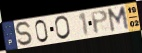0: (34, 18, 50, 43)
1: (78, 11, 89, 37)
M: (106, 5, 131, 34)
O: (54, 15, 72, 41)
P: (90, 9, 110, 35)
S: (14, 21, 35, 47)
